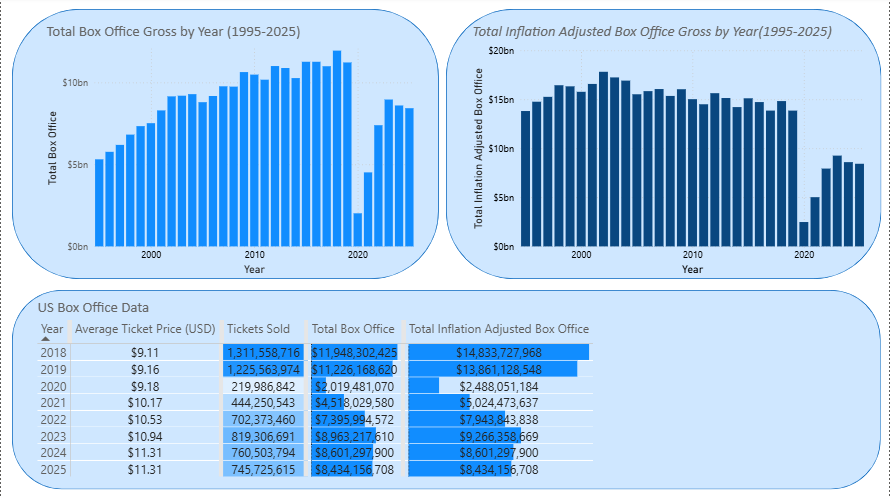

This screenshot's page, from the dashboard's own definition file:
{"tool":"powerbi","page":{"name":"Box office trends over time","canvas":[1280,720],"ordinal":2},"visuals":[{"type":"shape","box":[15.8,17.5,614.6,388.7],"z":0,"group":"g1"},{"type":"group","id":"g1","title":"Group 1","box":[15.8,17.5,1252,691.3],"z":0},{"type":"shape","box":[16.2,421.6,1250.9,287.1],"z":1000,"group":"g1"},{"type":"pivotTable","title":"US Box Office Data","fields":{"Rows":["box_office_df.Year"],"Values":["Sum(box_office_df.Average Ticket Price (USD))","Sum(box_office_df.Tickets Sold)","Sum(box_office_df.Total Box Office)","Sum(box_office_df.Total Inflation (Adjusted Box Office))"]},"box":[47.5,433.4,917.3,273.6],"z":1000},{"type":"columnChart","title":"Total Box Office Gross by Year (1995-2025)","fields":{"Category":["box_office_df.Year"],"Y":["Median(box_office_df.Total Box Office)"]},"box":[59.8,35.9,548.6,369.1],"z":2000},{"type":"shape","box":[640.9,17.5,626.9,388.7],"z":3000,"group":"g1"},{"type":"clusteredColumnChart","title":"Total Inflation Adjusted Box Office Gross by Year(1995-2025)","fields":{"Category":["box_office_df.Year"],"Y":["Median(box_office_df.Total Inflation (Adjusted Box Office))"]},"box":[673.3,35.9,582.8,369.1],"z":3000},{"type":"image","box":[1203.8,0,76.3,60.5],"z":4000}]}

Visuals, with their boxes in screenshot pixels (x1, y1, x2, y2), scaled from the page's 1280x720 canvas onto the 890x497 screenshot:
shape: pyautogui.locateOnScreen(11, 12, 438, 280)
"Group 1" group: pyautogui.locateOnScreen(11, 12, 882, 489)
shape: pyautogui.locateOnScreen(11, 291, 881, 489)
"US Box Office Data" pivotTable: pyautogui.locateOnScreen(33, 299, 671, 488)
"Total Box Office Gross by Year (1995-2025)" columnChart: pyautogui.locateOnScreen(42, 25, 423, 280)
shape: pyautogui.locateOnScreen(446, 12, 882, 280)
"Total Inflation Adjusted Box Office Gross by Year(1995-2025)" clusteredColumnChart: pyautogui.locateOnScreen(468, 25, 873, 280)
image: pyautogui.locateOnScreen(837, 0, 889, 42)
